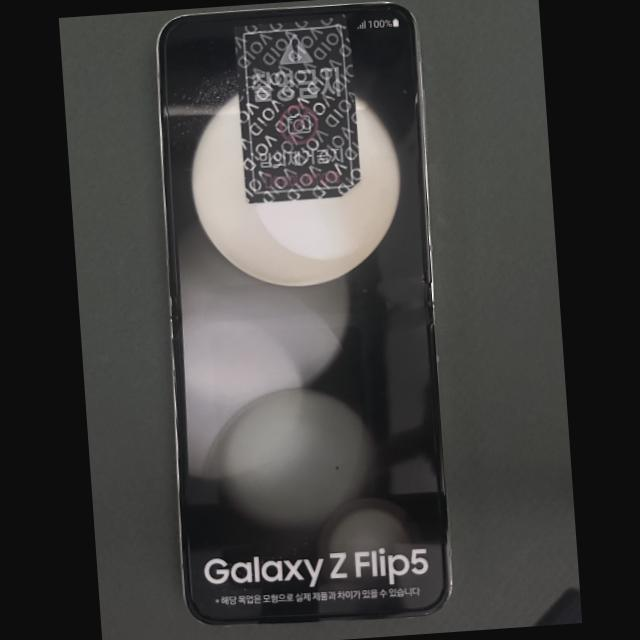phone: (159, 4, 451, 624)
sticker: (233, 14, 361, 203)
